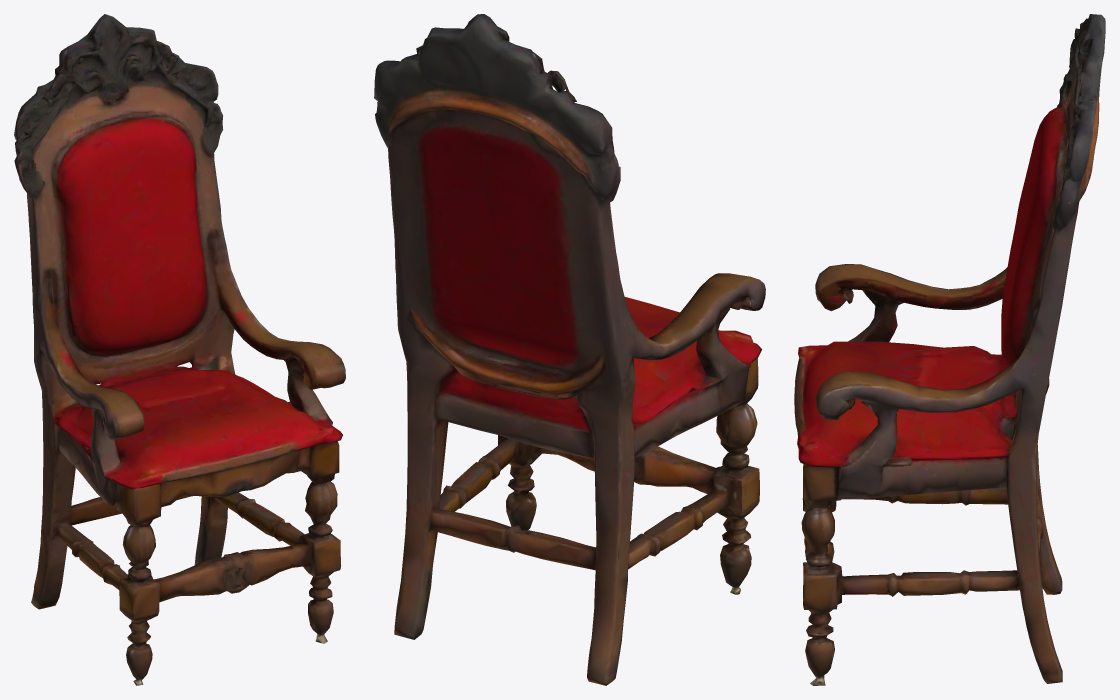
Rendered from fancy chair.glb.
3 views of the same model, side by side, from view 1: azimuth 30°, elevation 25°; view 2: azimuth 150°, elevation 25°; view 3: azimuth 270°, elevation 25° (orthographic). The views are drawn at different scales.
Size of the model in its own units: 0.8676 by 1.99 by 0.9055.
1 material, 1 textured.
